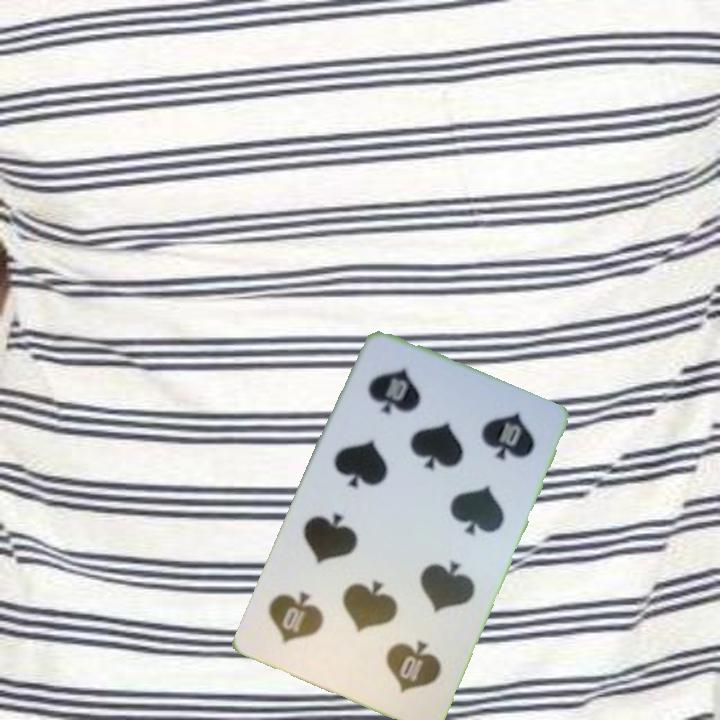s_10.png: (343, 345, 467, 461), (338, 599, 461, 715)
